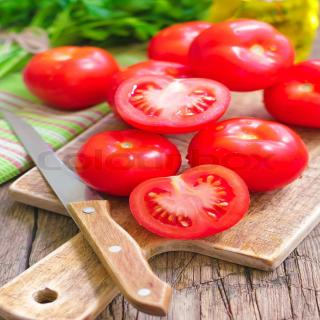Tomat: (186, 117, 310, 193), (129, 165, 251, 241), (189, 19, 296, 93), (75, 130, 183, 198), (115, 75, 233, 136), (23, 46, 121, 111)
